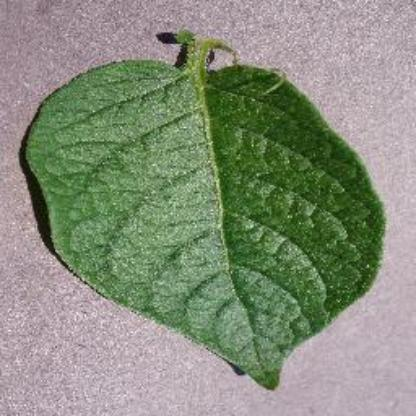Healthy-plant: (19, 20, 401, 398)
